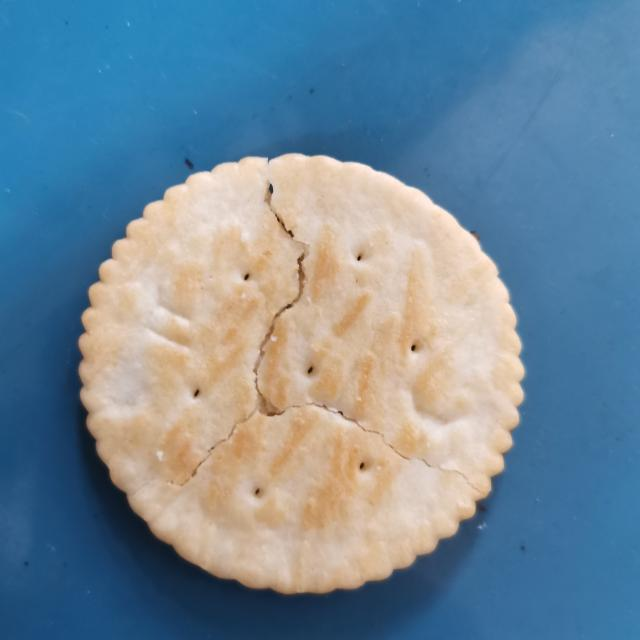Fracture: (120, 155, 492, 520)
